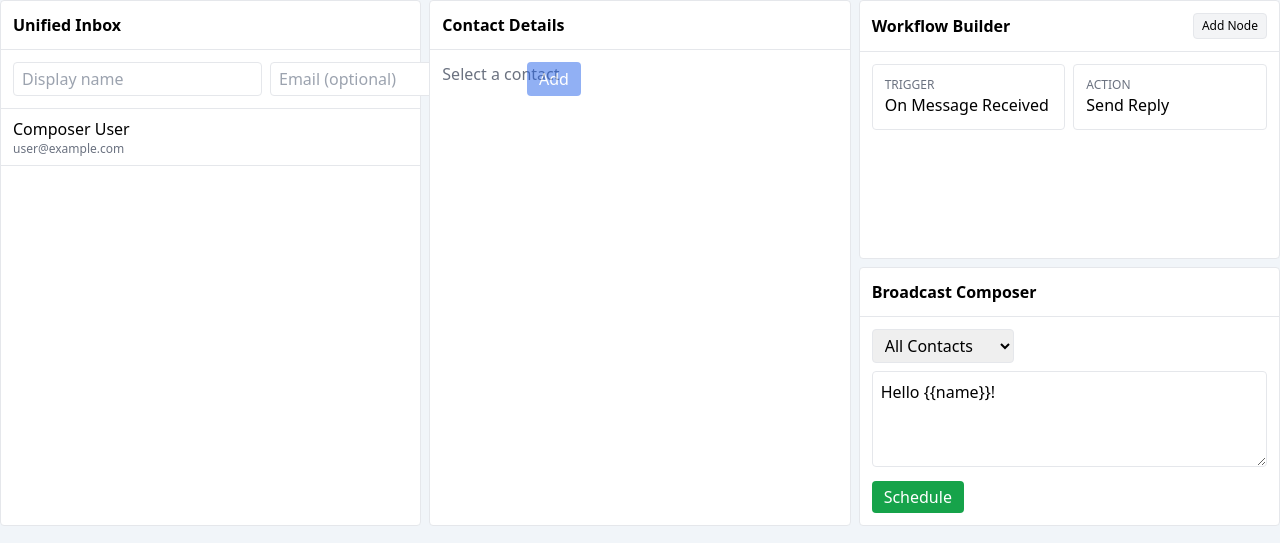
InboxPage › shows message form in detail panel
Click the text "Composer User" at (71, 129), box [13,118,130,140]
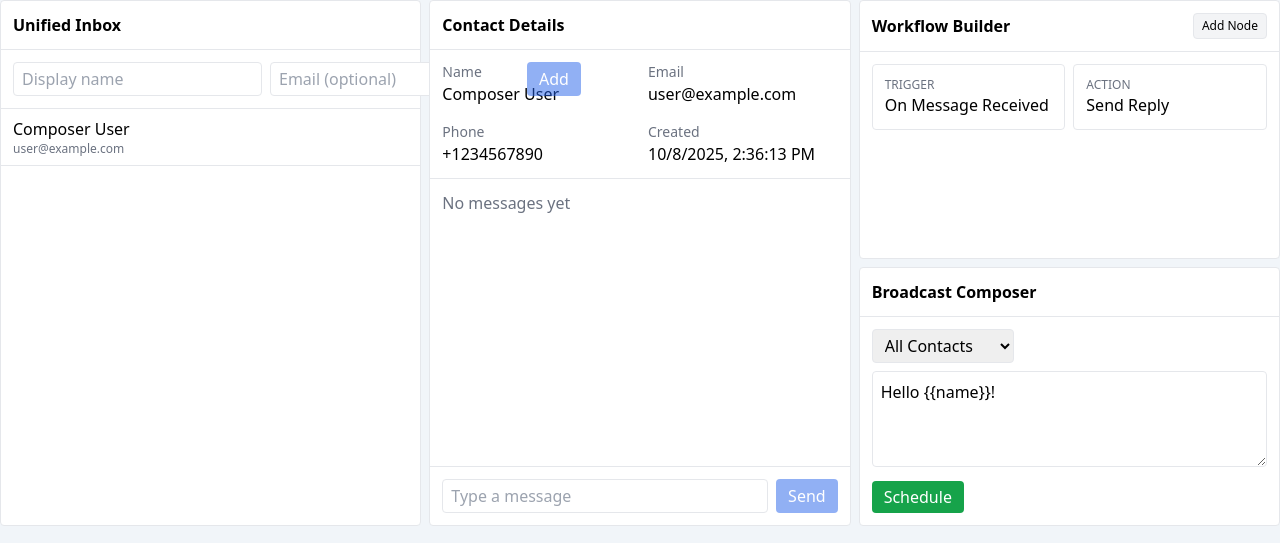
Check: the field with placeholder "Type a message" is shown, box [442,479,768,513]
